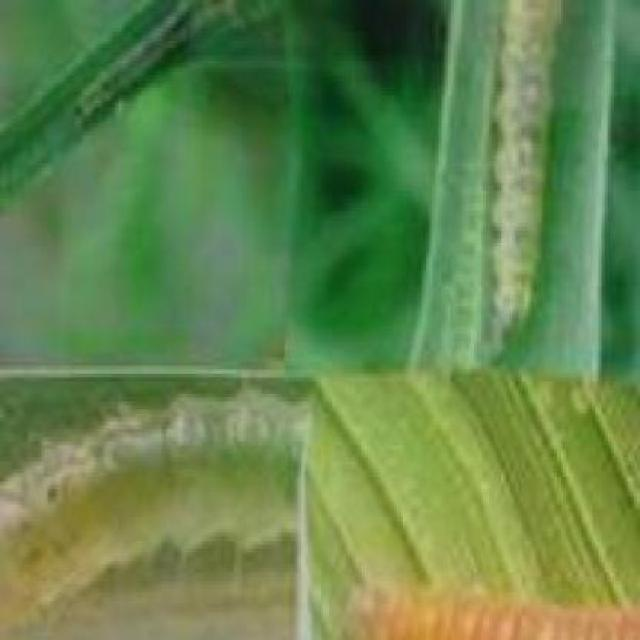leaf-folder: (4, 383, 310, 640), (469, 20, 588, 340), (343, 552, 640, 640), (71, 0, 251, 138)
